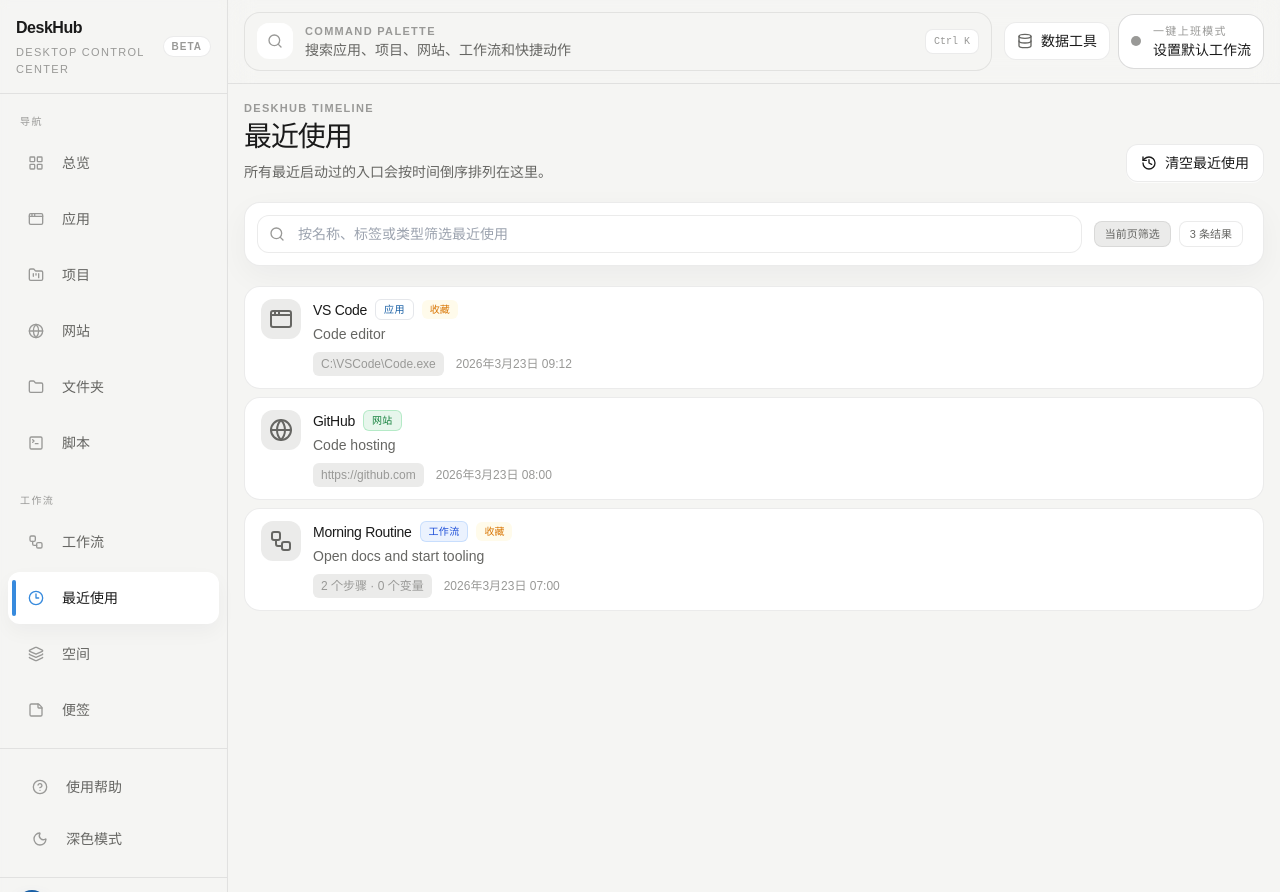
Test: AppRouter › clears recent usage without deleting items
Expected: the heading "VS Code" is shown, x1=313 y1=300 x2=367 y2=320
Expected: the heading "GitHub" is shown, x1=313 y1=410 x2=355 y2=430
Click the button "清空最近使用" at (1195, 163), box x1=1126 y1=144 x2=1264 y2=182
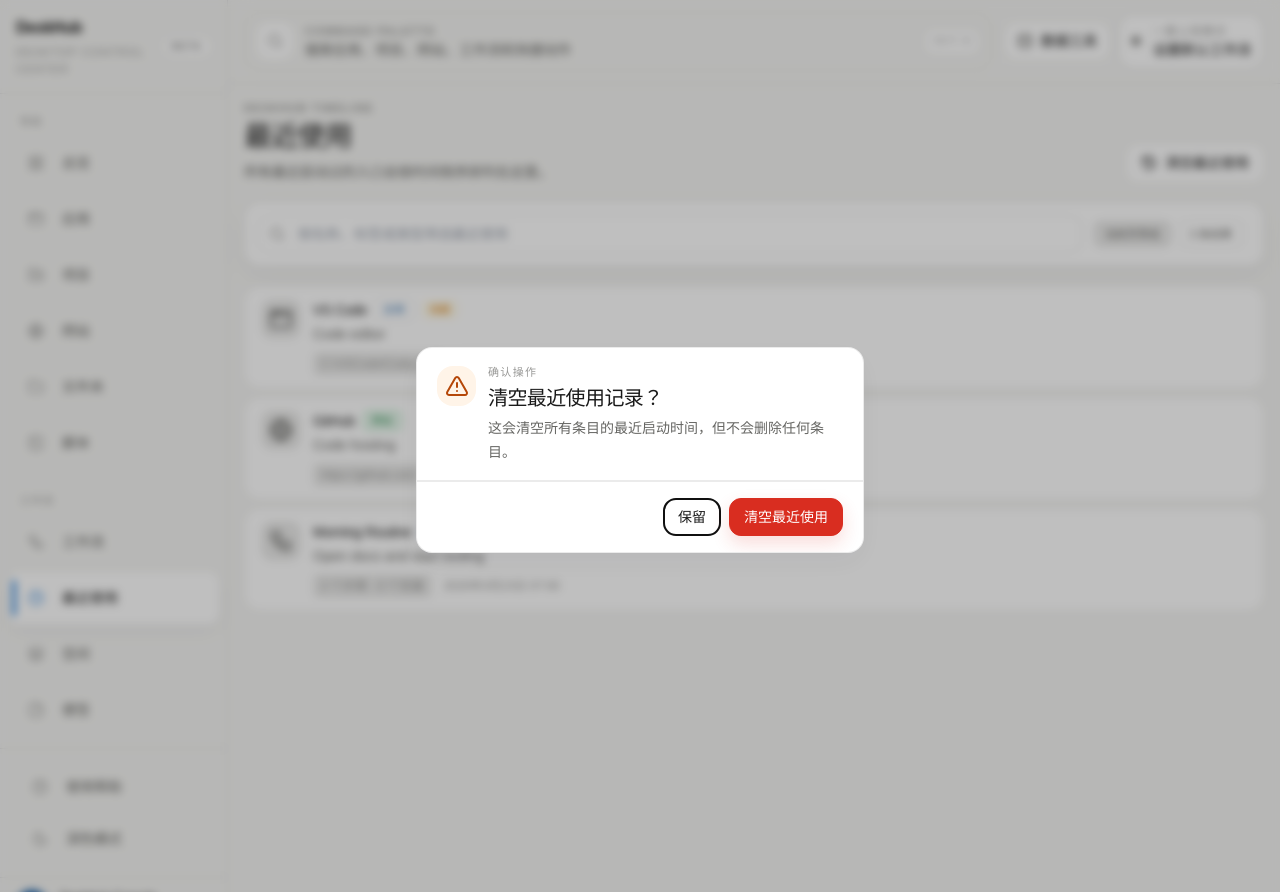
Click the button "清空最近使用" at (786, 517), box x1=729 y1=498 x2=843 y2=536
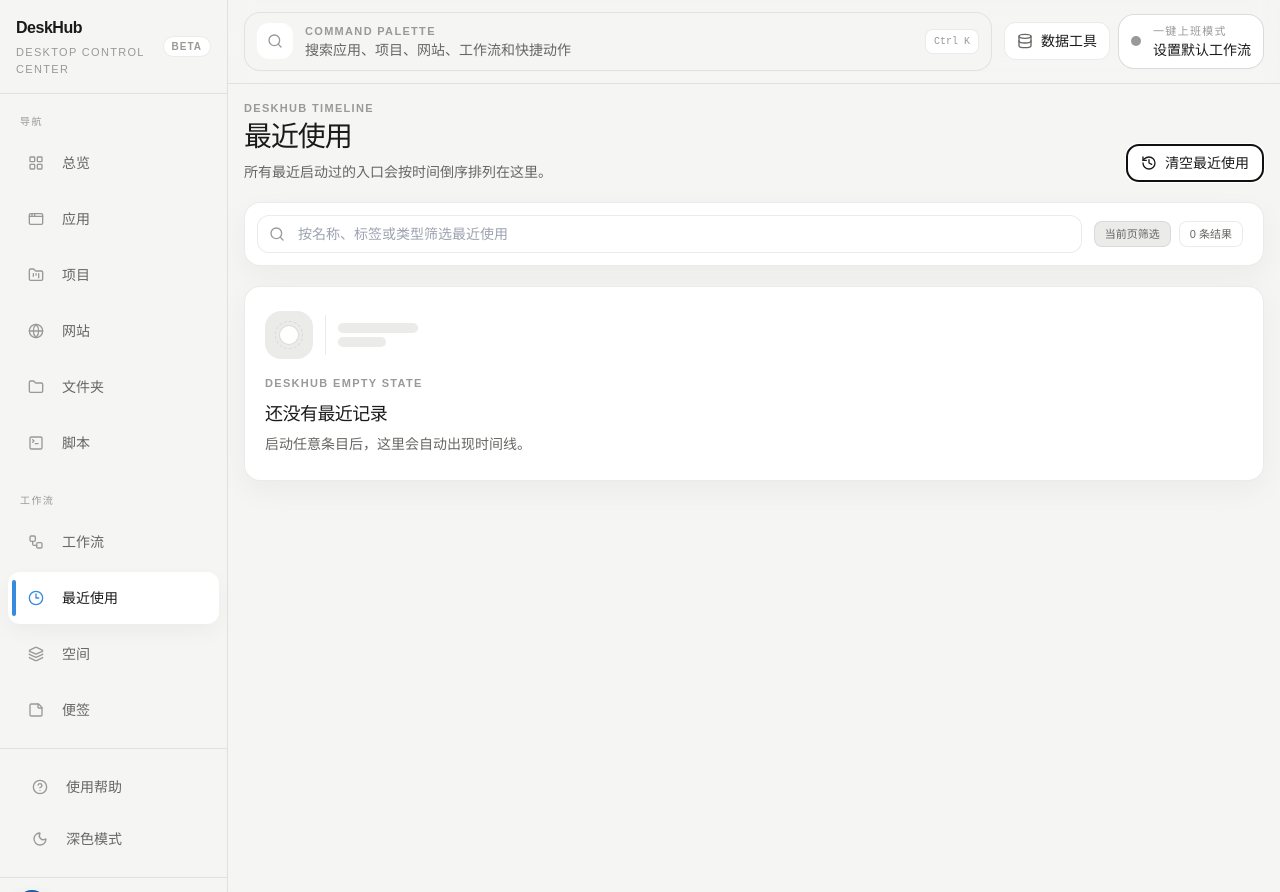
Expected: the heading "还没有最近记录" is shown, x1=265 y1=404 x2=387 y2=424
